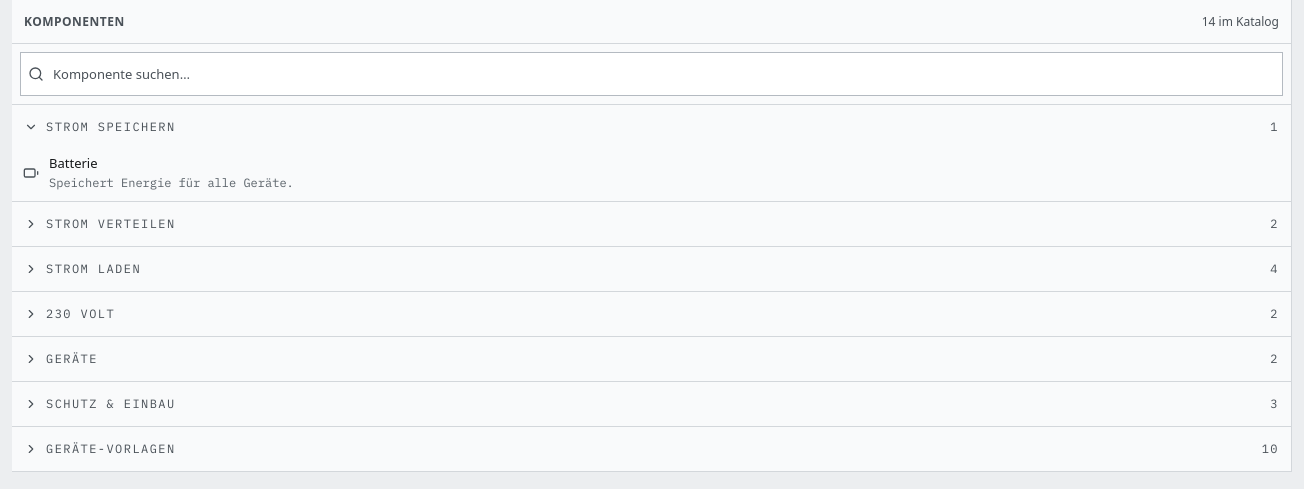
Scenario: Sidebar Component › Search and Filtering › filters components based on search term
Type "Solar" into the search field with placeholder "Komponente suchen…".
click(652, 74); type("Solar")  # box x1=20 y1=52 x2=1283 y2=96
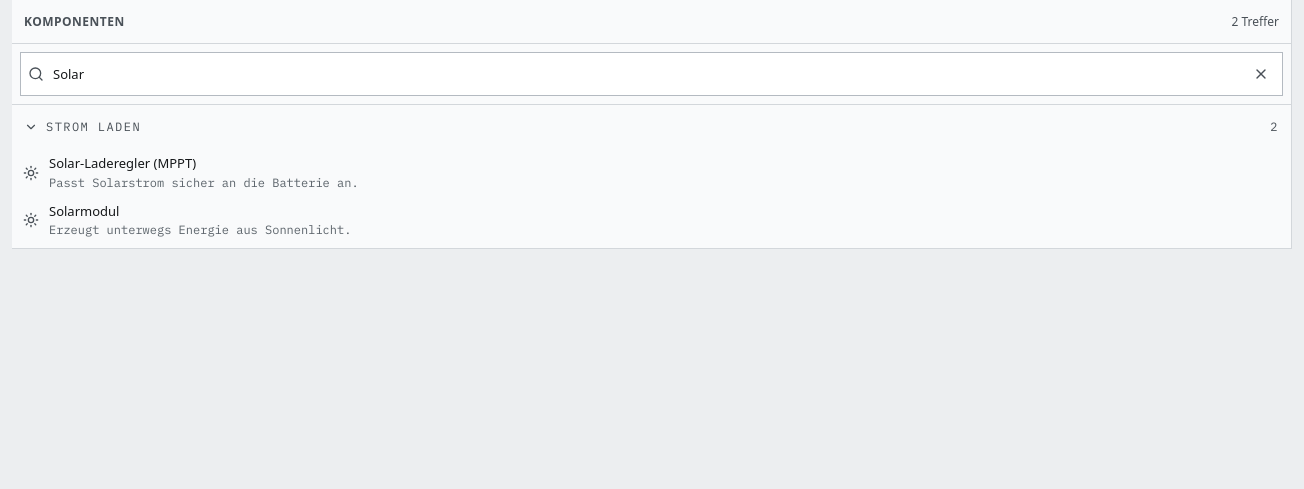
expect the text "Solarmodul" is shown: met, box x1=49 y1=202 x2=119 y2=220
